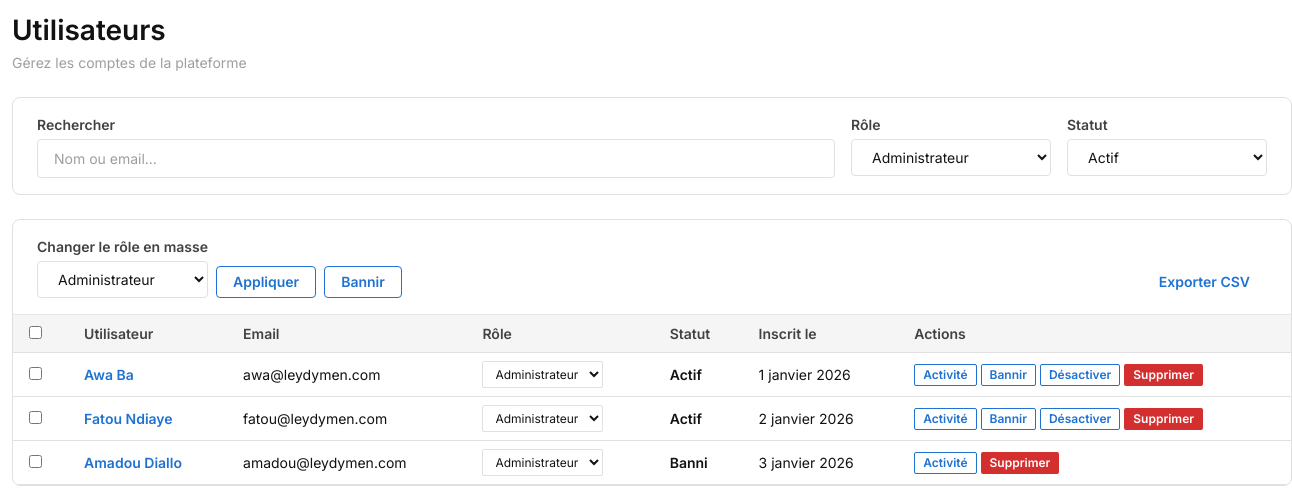
AdminUsersComponent › should filter the table by search keyword
Step 1. Type "Fatou" into the field labelled "Rechercher" → [436, 159], box [37, 139, 835, 178]
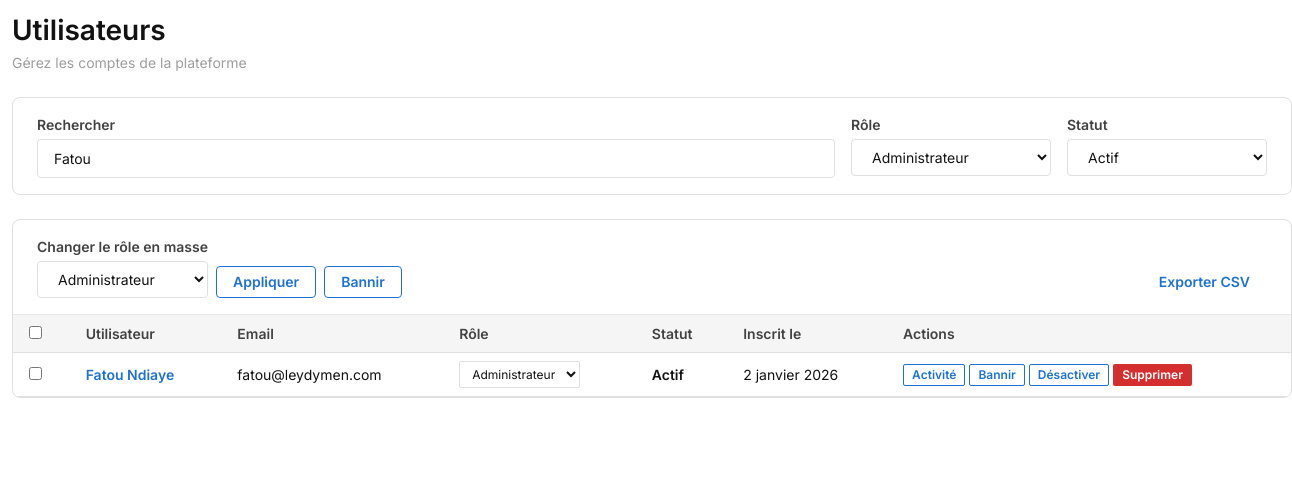
Expected: the text "Fatou Ndiaye" is shown, [86, 366, 174, 383]
Expected: the text "Awa Ba" is gone
